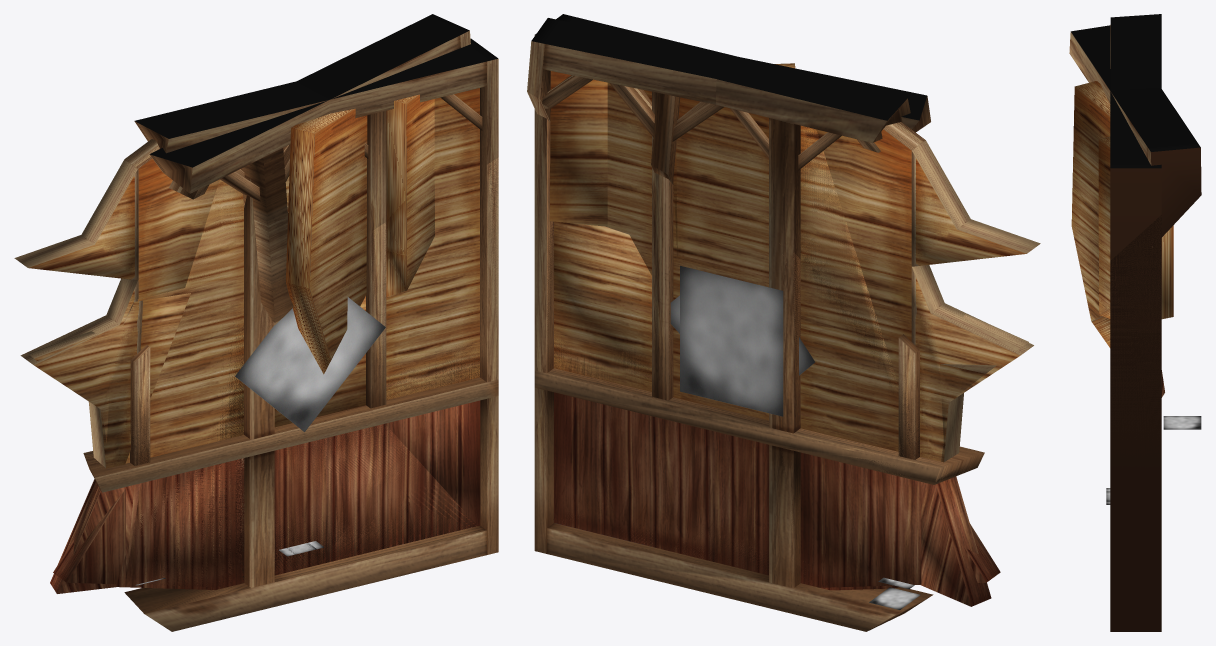
File: a_SWGiwall01B_01.glb
The picture shows the model from 3 angles, left to right: view 1: azimuth 30°, elevation 25°; view 2: azimuth 150°, elevation 25°; view 3: azimuth 270°, elevation 25°; orthographic projection. The views are drawn at different scales.
Parts seen in each view (by area): view 1: a_SWGiwall01B_01; view 2: a_SWGiwall01B_01; view 3: a_SWGiwall01B_01.
Part boxes in pixels (<box>): a_SWGiwall01B_01: <box>14,14,498,631</box>; a_SWGiwall01B_01: <box>527,14,1040,631</box>; a_SWGiwall01B_01: <box>1069,14,1201,631</box>.
Bounding box in the file's own units: 2.95 × 3.08 × 0.7747.
Materials: 13 (13 with a texture image).
